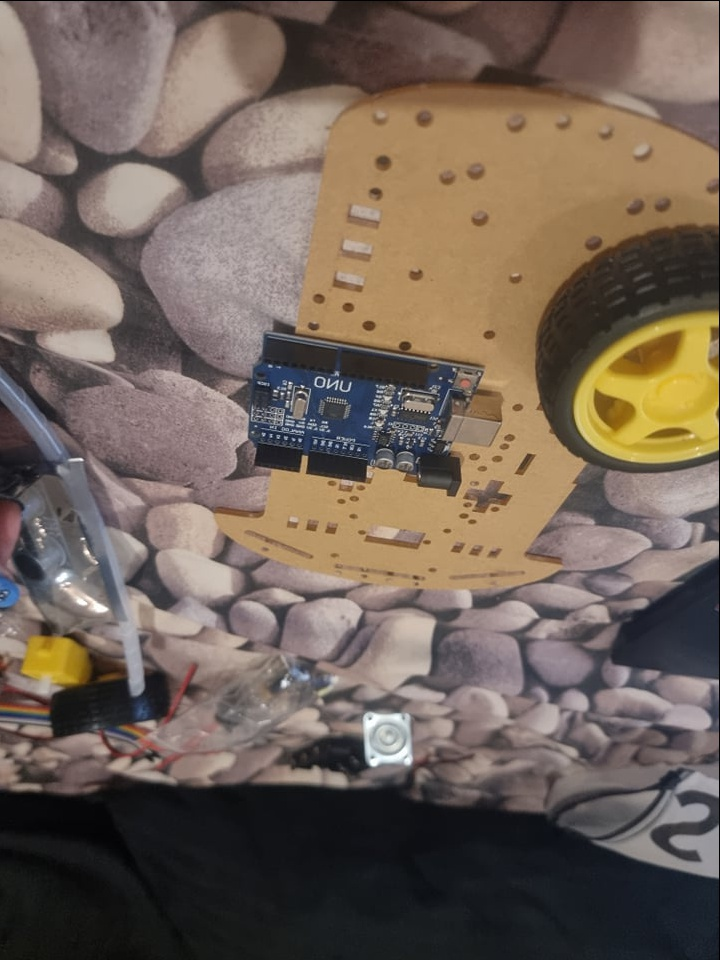BATTERY BOX: (283, 733, 371, 780)
UNO R3: (230, 326, 505, 494)
